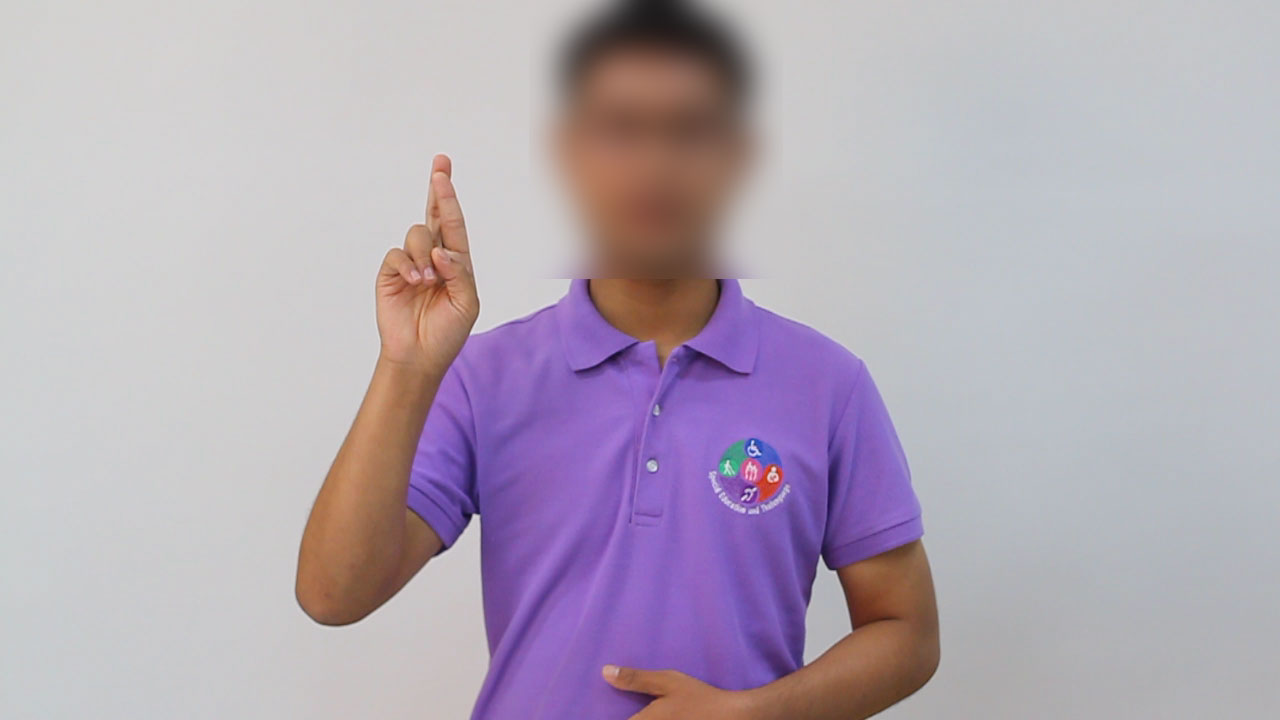rao: (351, 148, 488, 395)
